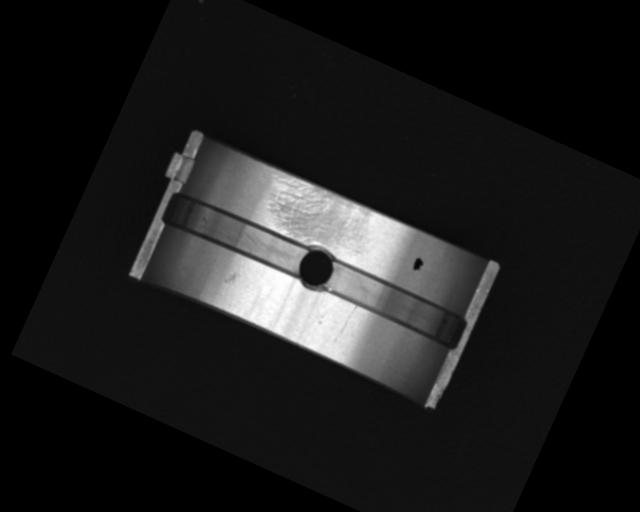blot: (409, 255, 426, 274)
bruise: (221, 269, 239, 287)
gap: (159, 186, 313, 282), (320, 256, 469, 350)
hole: (290, 240, 342, 298)
nick: (337, 302, 357, 337)
scratch: (254, 168, 382, 268)
